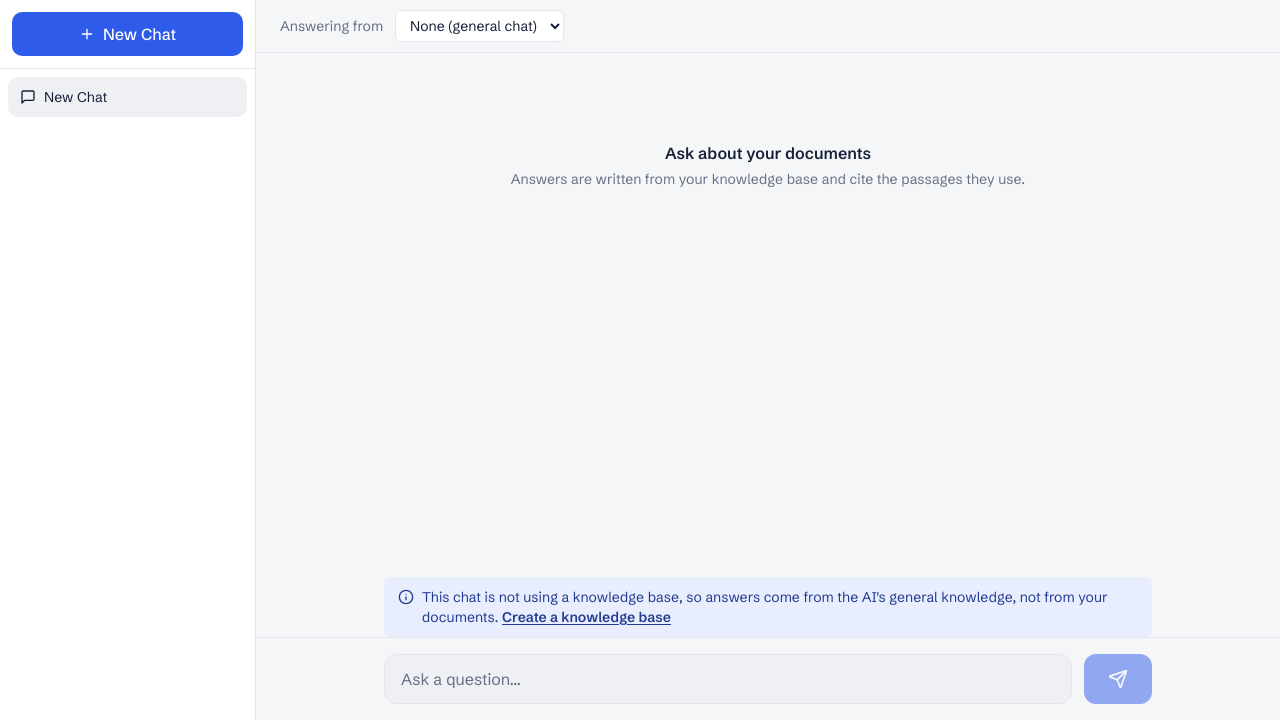
ChatPage › while waiting for the answer › says the answer is being written once sources are found
Step 1. Type "How long?" into the field named "Your question" → (728, 679), box [384, 654, 1072, 704]
Then press Enter
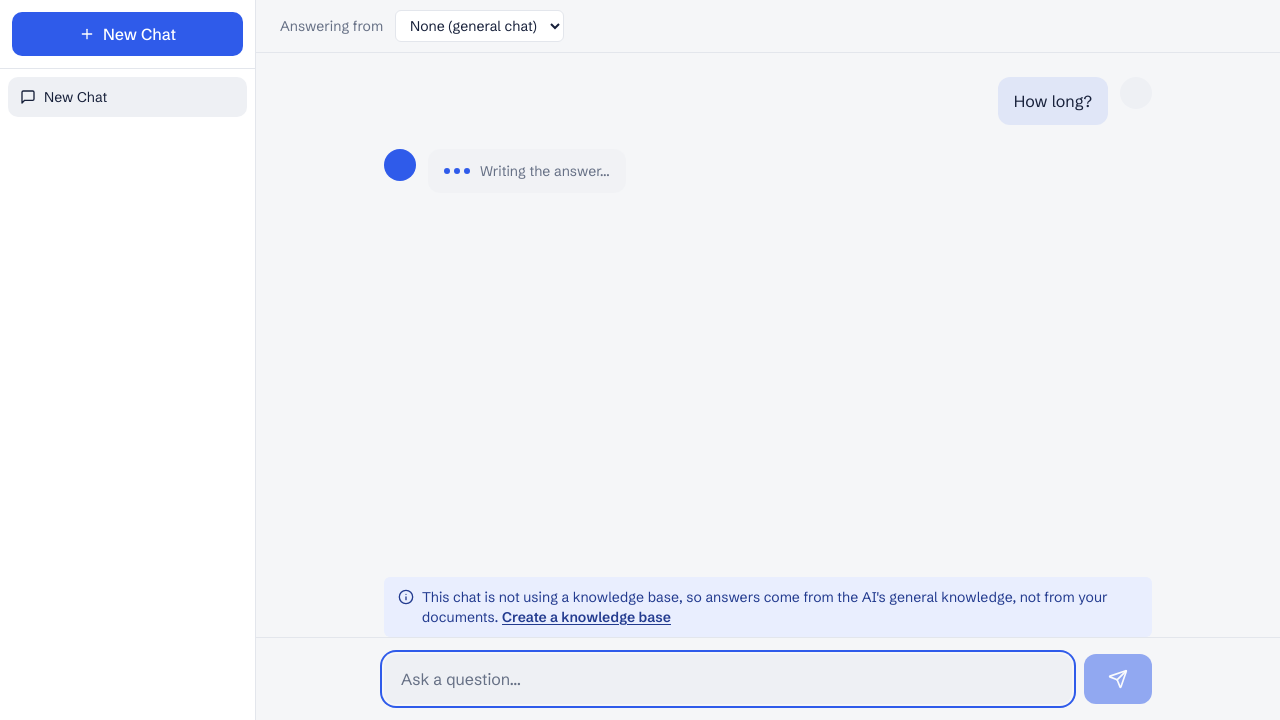
Result: the text "Writing the answer…" is shown at [428, 149, 626, 193]
